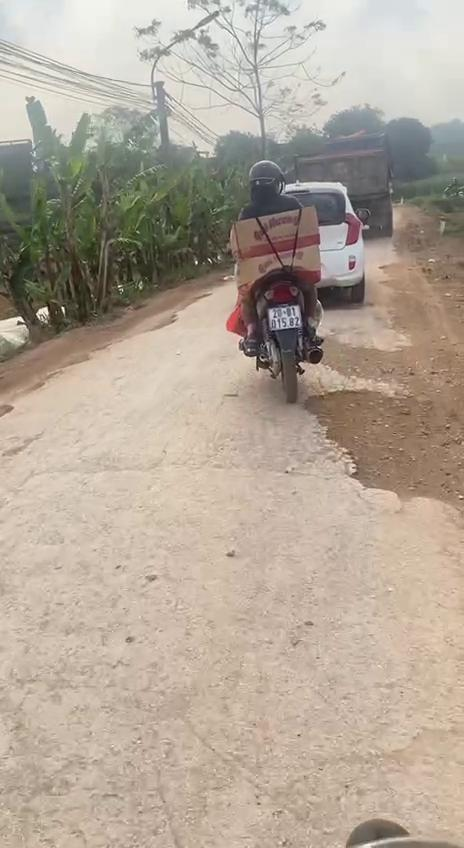pothole: (301, 385, 464, 518), (313, 337, 413, 386), (0, 370, 64, 420), (120, 304, 180, 339)
